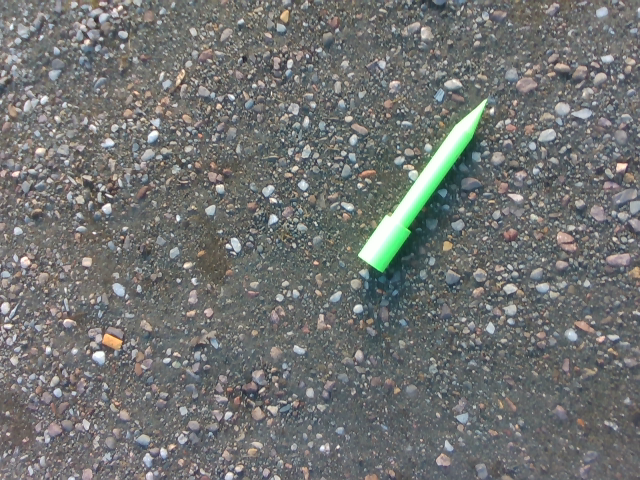Probe: (354, 90, 493, 279)
